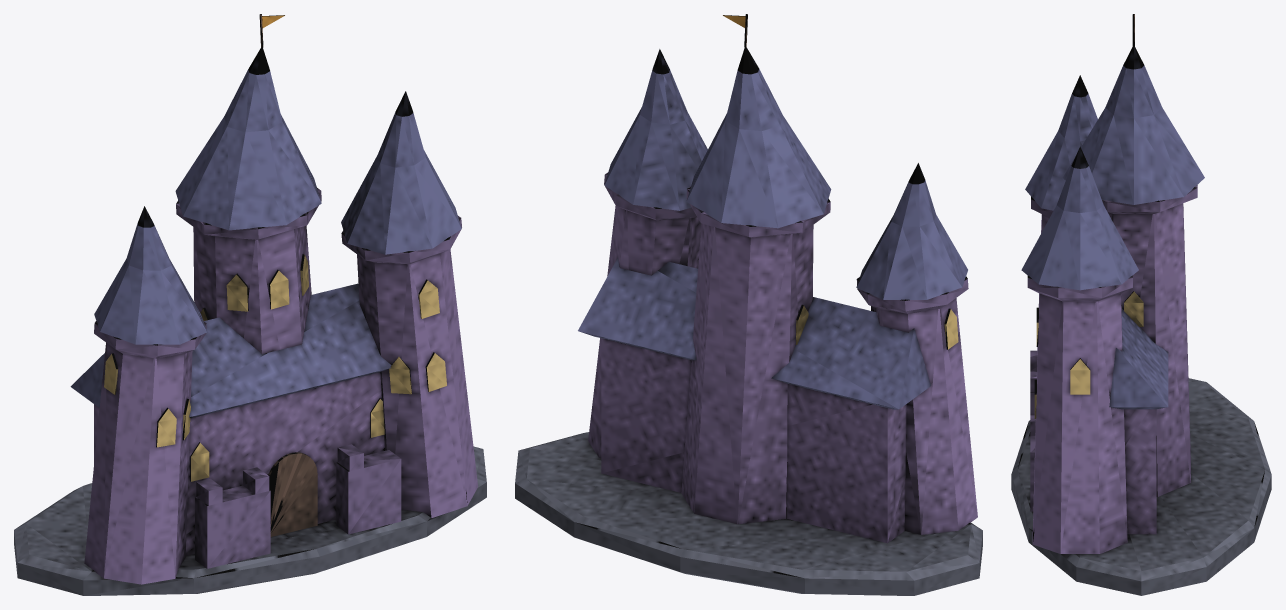
File: mansion_embrujada.glb
The picture shows the model from 3 angles, left to right: view 1: azimuth 30°, elevation 25°; view 2: azimuth 150°, elevation 25°; view 3: azimuth 270°, elevation 25°; orthographic projection. The views are drawn at different scales.
Parts seen in each view (by area): view 1: TowerLeft_Shaft, TowerRight_Shaft, GroundBase, Hall, HallRoof, TowerMain_Roof, TowerRight_Roof, TowerMain_Shaft, TowerLeft_Roof, FrontWall_1, FrontWall_2, Door (+10 smaller); view 2: GroundBase, TowerMain_Shaft, Hall, HallRoof, TowerMain_Roof, TowerLeft_Shaft, TowerRight_Roof, TowerLeft_Roof, TowerRight_Shaft, TowerMain_Corbel, TowerLeft_Corbel, TowerRight_Corbel; view 3: GroundBase, TowerRight_Shaft, TowerMain_Shaft, TowerMain_Roof, TowerRight_Roof, HallRoof, Hall, TowerLeft_Roof, TowerRight_Corbel, TowerMain_Corbel, TowerRight_Window_3, TowerMain_Window_4 (+1 smaller).
Part boxes in pixels (x1,y1,x2,y2): TowerLeft_Shaft: [84, 342, 192, 584]; TowerRight_Shaft: [357, 249, 478, 517]; GroundBase: [14, 446, 486, 595]; Hall: [94, 372, 384, 555]; HallRoof: [70, 283, 391, 418]; TowerMain_Roof: [175, 47, 321, 230]; TowerRight_Roof: [341, 91, 461, 254]; TowerMain_Shaft: [193, 225, 311, 353]; TowerLeft_Roof: [94, 206, 206, 344]; FrontWall_1: [195, 485, 270, 568]; FrontWall_2: [336, 450, 401, 534]; Door: [268, 452, 317, 536]; GroundBase: [515, 432, 982, 595]; TowerMain_Shaft: [681, 223, 813, 524]; Hall: [601, 338, 906, 543]; HallRoof: [578, 258, 930, 409]; TowerMain_Roof: [686, 47, 831, 228]; TowerLeft_Shaft: [871, 298, 977, 534]; TowerRight_Roof: [604, 49, 707, 210]; TowerLeft_Roof: [856, 163, 967, 299]; TowerRight_Shaft: [588, 206, 701, 458]; TowerMain_Corbel: [686, 186, 830, 237]; TowerLeft_Corbel: [856, 276, 968, 313]; TowerRight_Corbel: [604, 172, 696, 220]; GroundBase: [1011, 378, 1271, 595]; TowerRight_Shaft: [1032, 293, 1127, 553]; TowerMain_Shaft: [1108, 203, 1190, 496]; TowerMain_Roof: [1062, 46, 1204, 204]; TowerRight_Roof: [1021, 146, 1138, 290]; HallRoof: [1109, 308, 1168, 409]; Hall: [1124, 409, 1156, 534]; TowerLeft_Roof: [1025, 75, 1097, 210]; TowerRight_Corbel: [1027, 275, 1132, 301]; TowerMain_Corbel: [1102, 185, 1197, 213]; TowerRight_Window_3: [1070, 358, 1090, 394]; TowerMain_Window_4: [1124, 291, 1143, 326].
Bounding box in the file's own units: 6.6 × 6.95 × 3.4.
7 materials, 7 textured.
